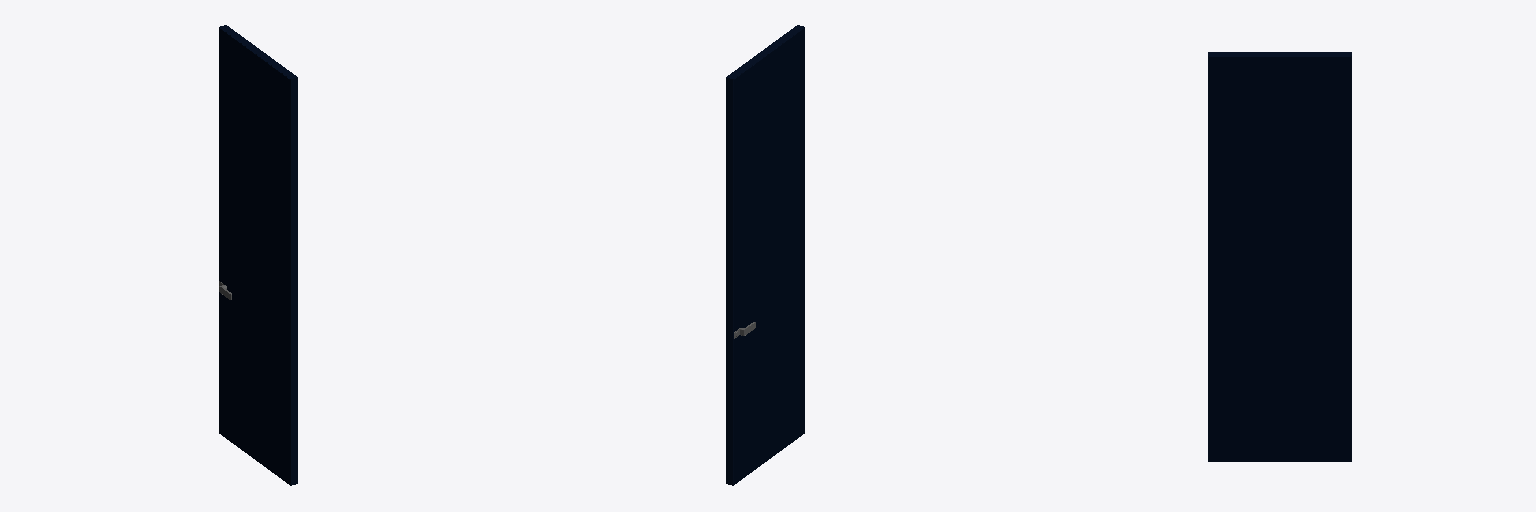
Rendered from door_s.obj.
3 views of the same model, side by side, from view 1: azimuth 30°, elevation 25°; view 2: azimuth 150°, elevation 25°; view 3: azimuth 270°, elevation 25° (orthographic).
Parts seen in each view (by area): view 1: door_; view 2: door_; view 3: door_.
Boxes of the visible parts, box(x1,y1,x2,y2) form: door_: box(219, 25, 297, 485); door_: box(726, 25, 804, 485); door_: box(1208, 52, 1351, 461).
Size of the model in its own units: 83.24 by 2500 by 800.